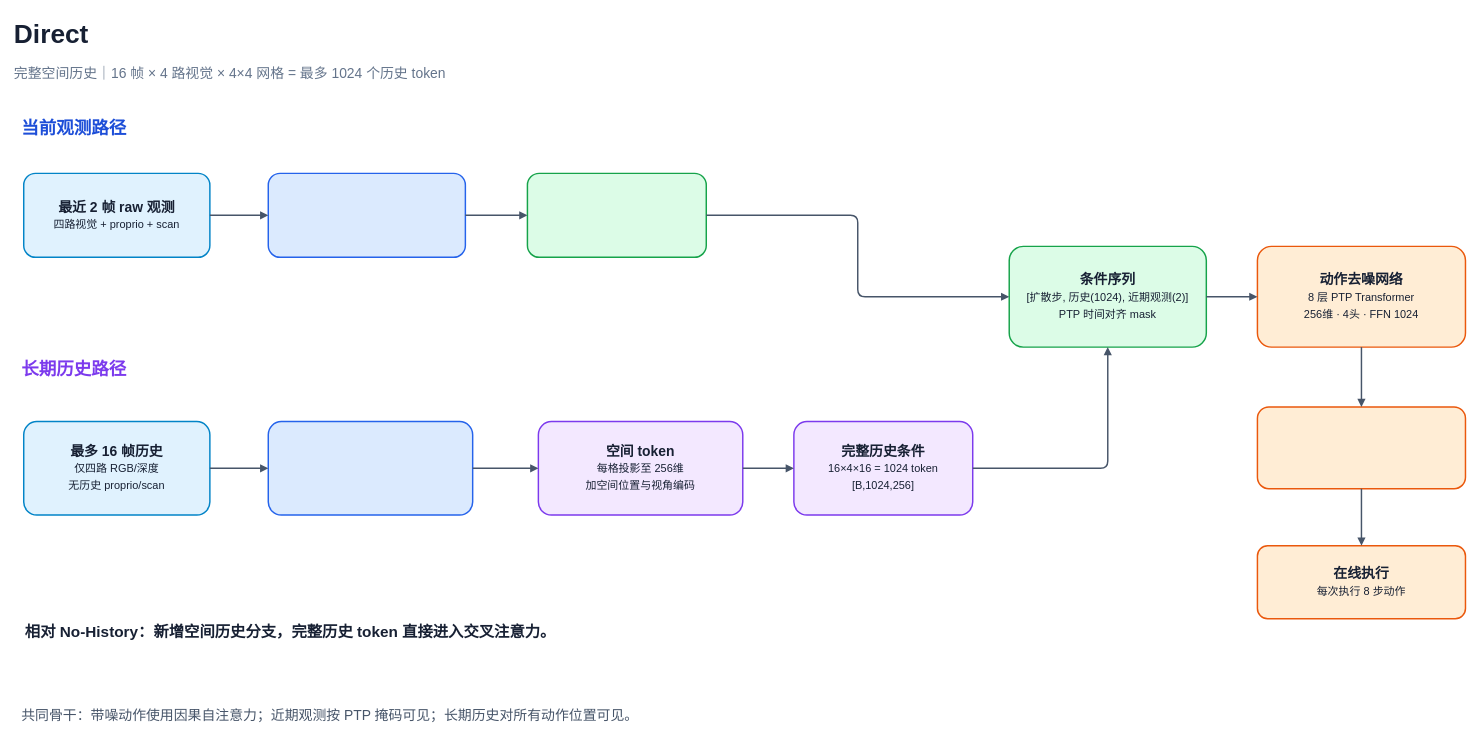
Some shapes in this 1478 by 748 pixel diagram are drawn without their labels. The shapes that lost their labels are listed below. From the top down, each one's centre as x and y in pixels, then its label:
At point (366, 215): "当前观测全局编码 ResNet-18 + MLP 加 task embedding".
At point (616, 215): "近期条件 [B,2,256]".
At point (370, 467): "空间视觉主干 每路 ResNet trunk AdaptiveAvgPool2d(4×4)".
At point (1361, 447): "DDPM 50 次反向去噪 9步 × 10维动作".
